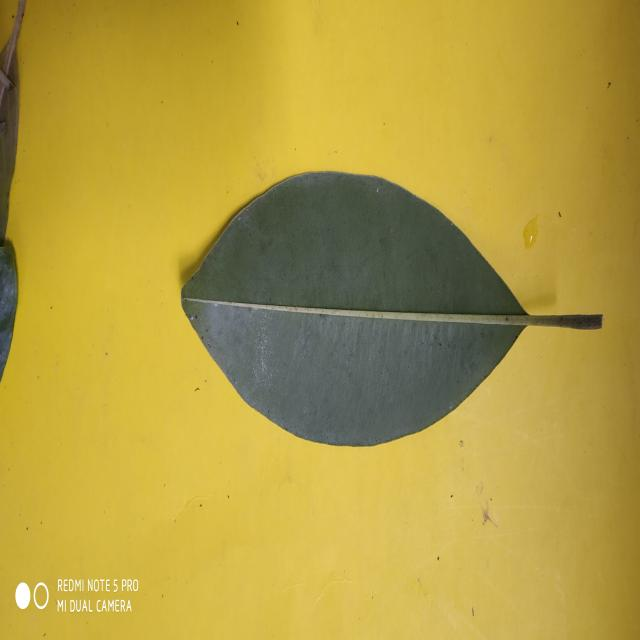sapota: (181, 171, 528, 447)
